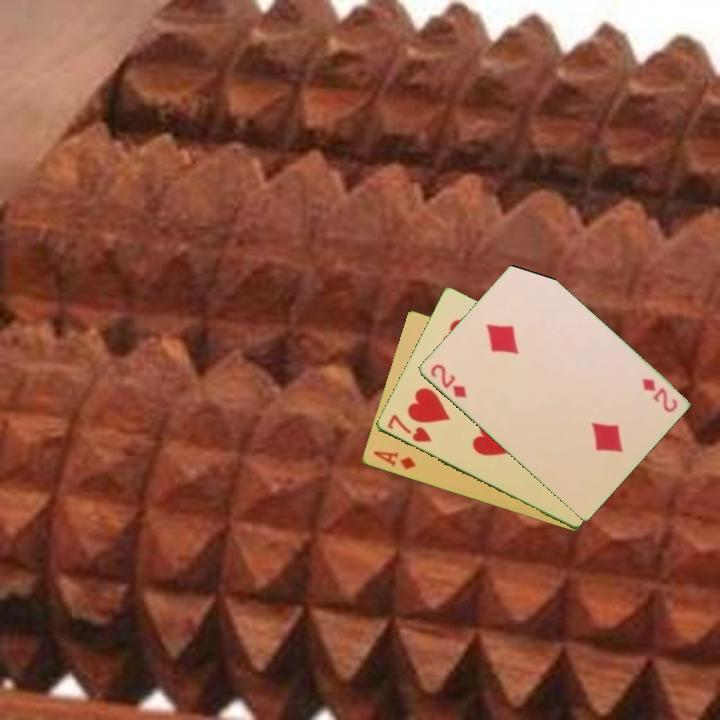2d: (426, 361, 469, 401), (638, 375, 680, 415)
7h: (384, 411, 434, 445)
Ad: (370, 447, 418, 473)
